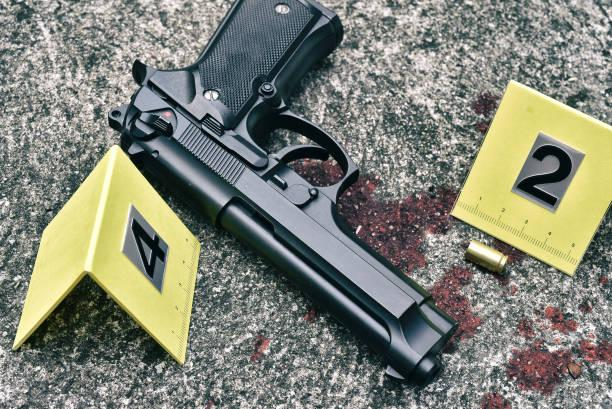weapon: (107, 0, 457, 384)
